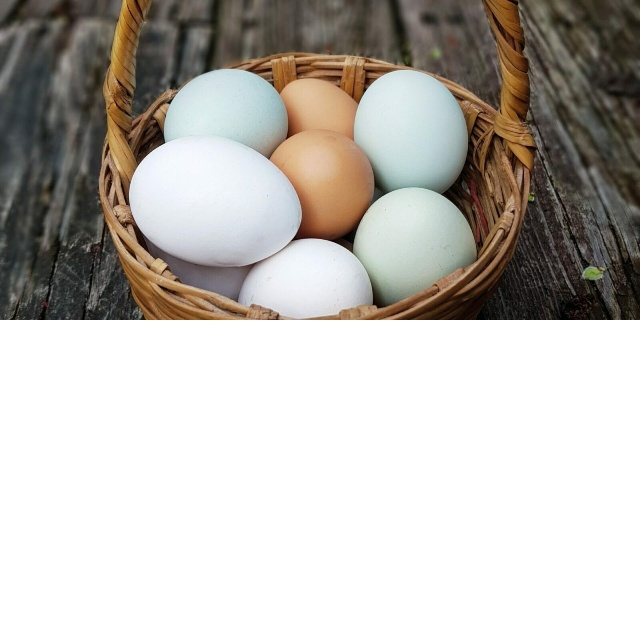trung_ga: (260, 126, 380, 243), (277, 73, 360, 145)
